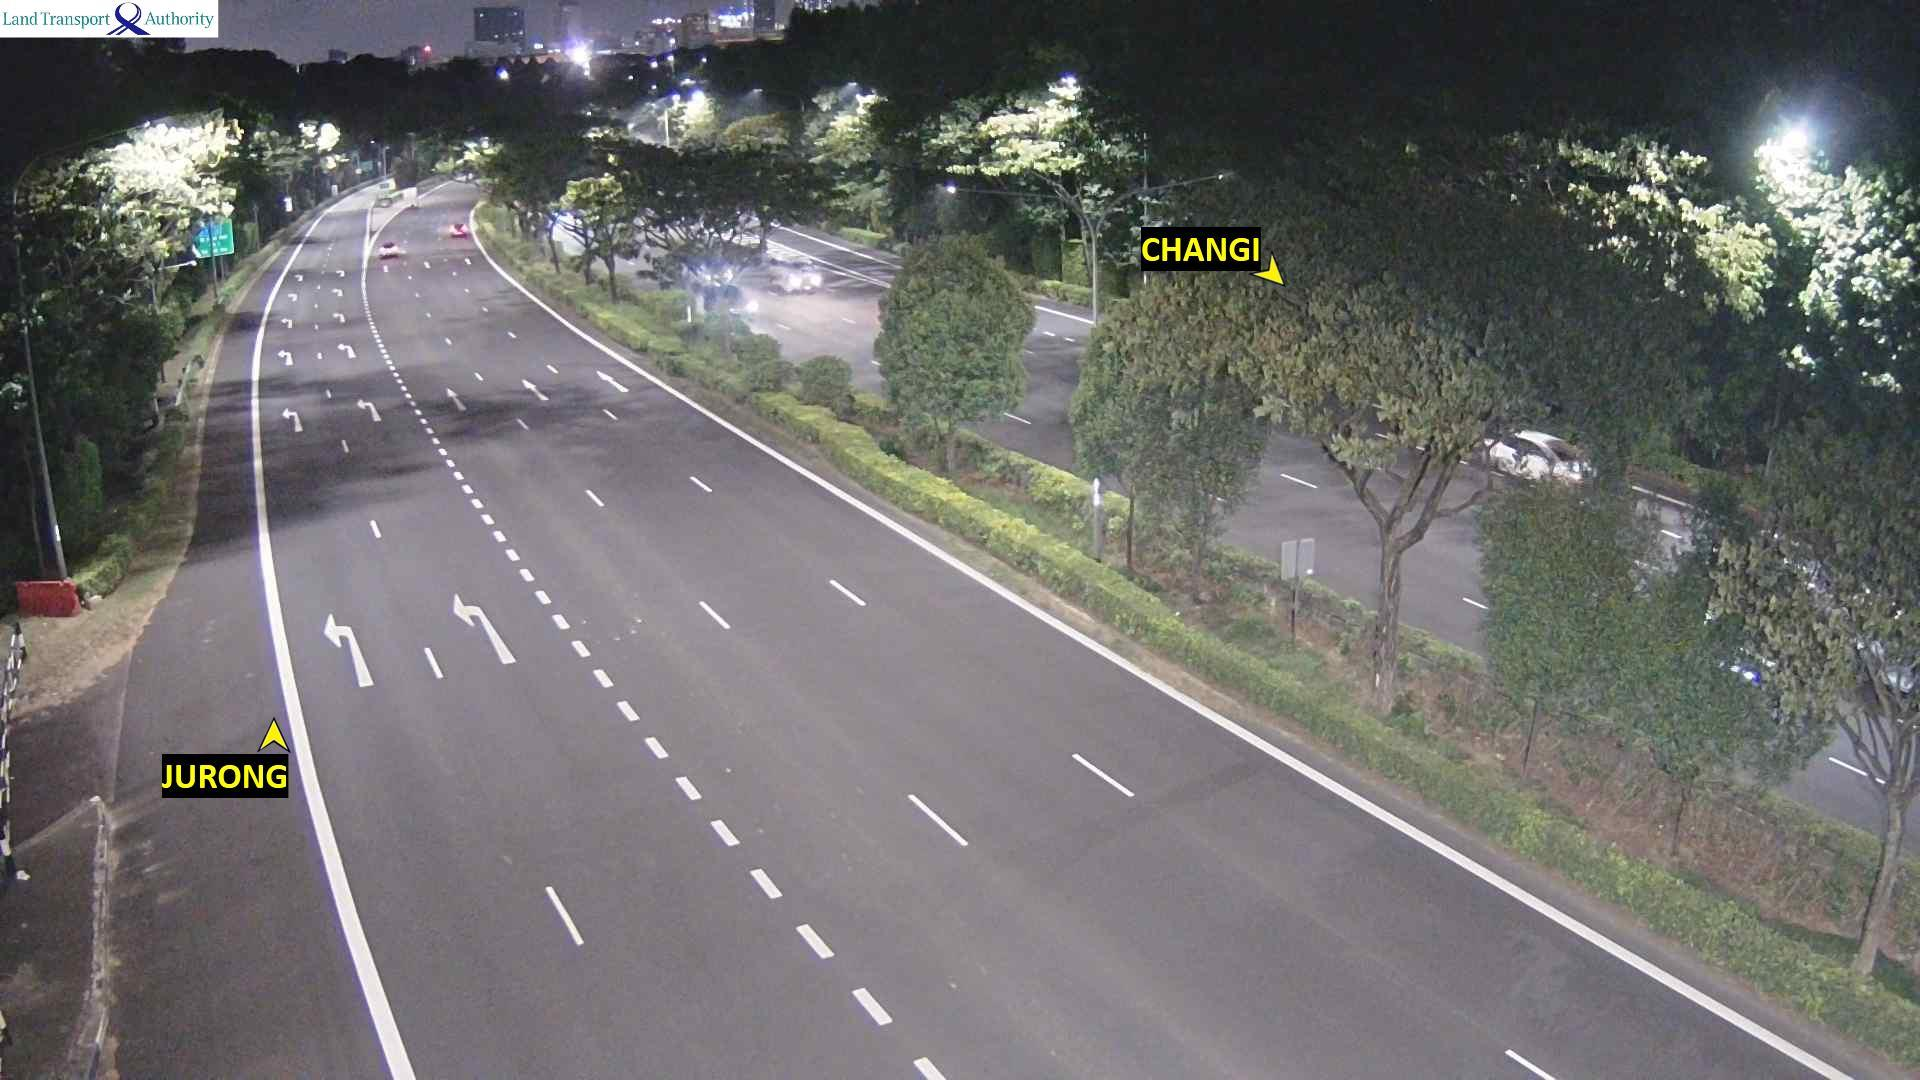cars: (1483, 427, 1595, 485), (671, 249, 738, 289), (693, 283, 762, 321), (765, 253, 823, 294), (377, 240, 404, 259), (450, 221, 468, 236)
